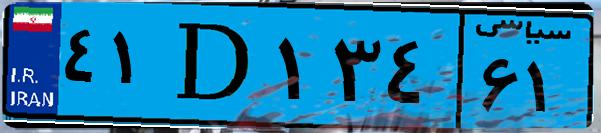1: (270, 28, 330, 110), (525, 38, 570, 115), (110, 28, 158, 98)
3: (330, 28, 385, 110)
4: (385, 28, 445, 110), (57, 26, 110, 100)
6: (475, 38, 525, 113)
D: (158, 12, 270, 120)
